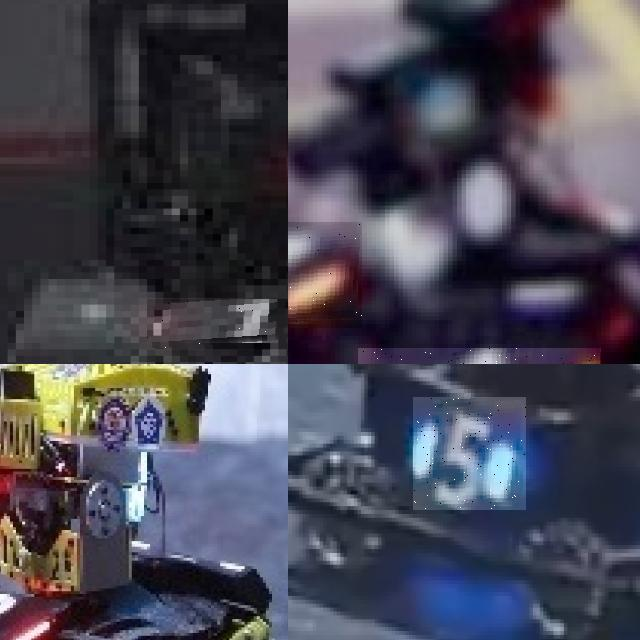B5: (413, 397, 526, 510)
R1: (288, 221, 362, 328), (147, 298, 288, 349)
